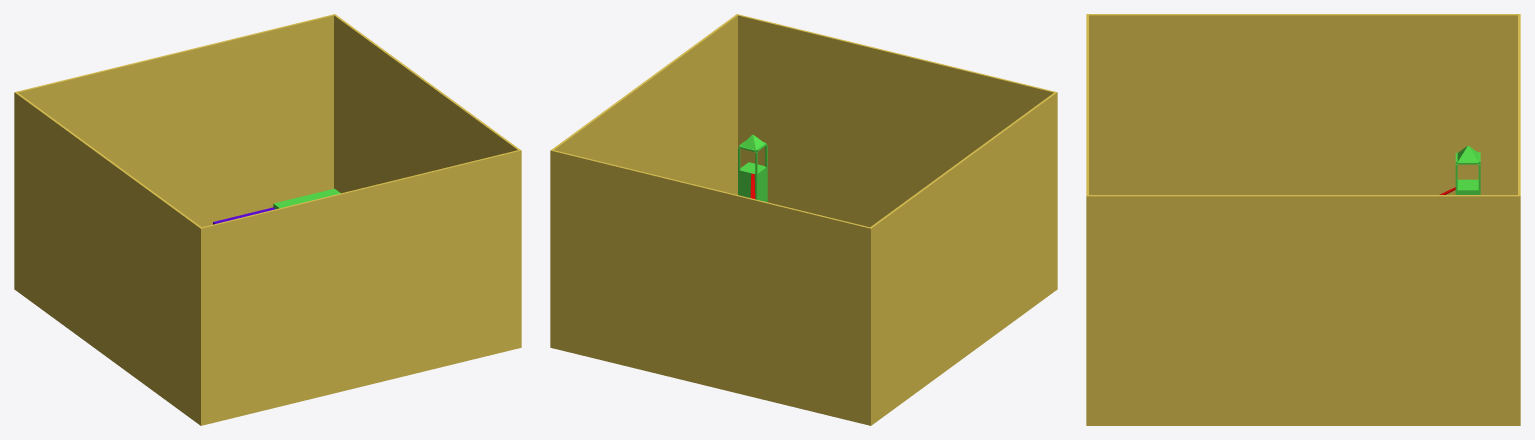
The model's file is level_1_REWORKED.fbx.
The picture shows the model from 3 angles, left to right: view 1: azimuth 30°, elevation 25°; view 2: azimuth 150°, elevation 25°; view 3: azimuth 270°, elevation 25°; orthographic projection. The views are drawn at different scales.
Parts seen in each view (by area): view 1: Plane; view 2: Plane, Cube.033; view 3: Plane, Cube.011.
Boxes of the visible parts, box(x1,y1,x2,y2) form: Plane: box(14, 14, 521, 425); Plane: box(550, 14, 1057, 425); Cube.033: box(738, 134, 767, 202); Plane: box(1086, 14, 1520, 425); Cube.011: box(1455, 146, 1480, 194).
Bounding box in the file's own units: 19600 × 11592 × 19748.
